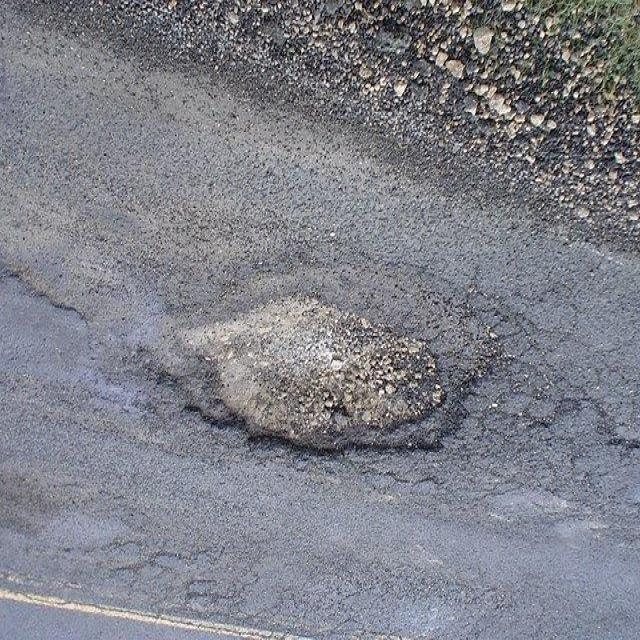jalan retak: (451, 297, 638, 521), (58, 524, 398, 640), (314, 553, 560, 639), (0, 376, 190, 474), (1, 452, 103, 588), (0, 231, 103, 365), (356, 458, 476, 534)
lubang: (157, 251, 483, 473)
